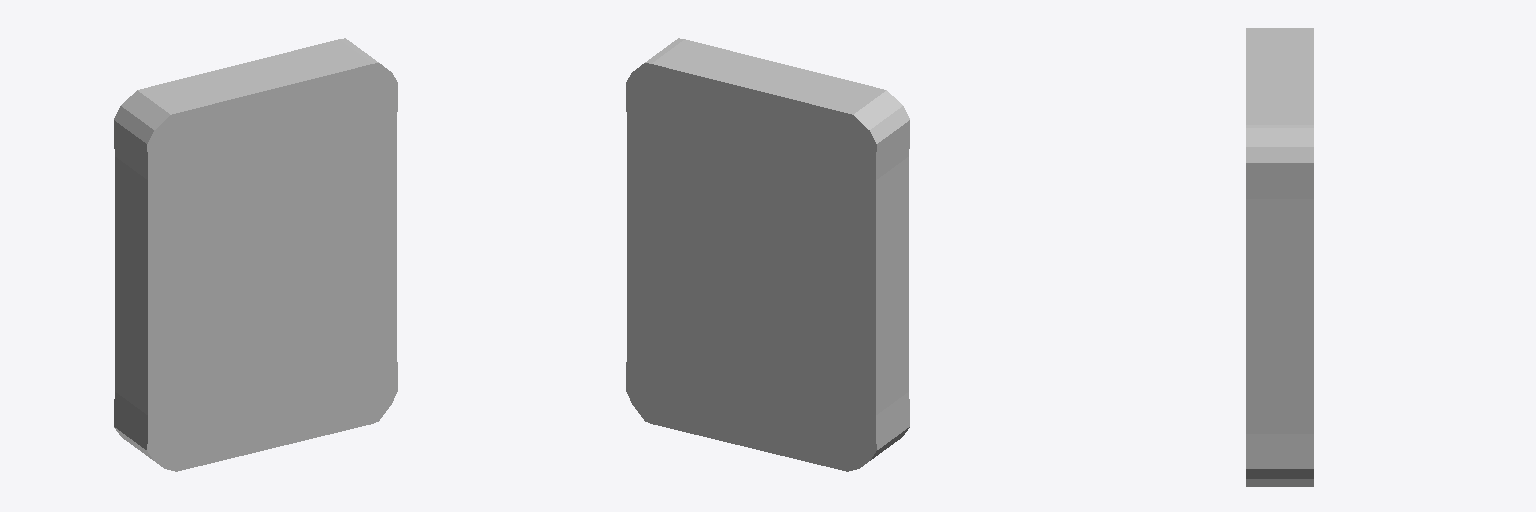
Rendered from weight_center2_phy.obj.
3 views of the same model, side by side, from view 1: azimuth 30°, elevation 25°; view 2: azimuth 150°, elevation 25°; view 3: azimuth 270°, elevation 25° (orthographic).
Parts seen in each view (by area): view 1: Weight_center2_phy; view 2: Weight_center2_phy; view 3: Weight_center2_phy.
Part boxes in pixels (left/top/right/bottom): Weight_center2_phy: left=114, top=38, right=397, bottom=471; Weight_center2_phy: left=626, top=38, right=909, bottom=471; Weight_center2_phy: left=1246, top=28, right=1313, bottom=486.
Bounding box in the file's own units: 0.0434 × 0.0594 × 0.0101.